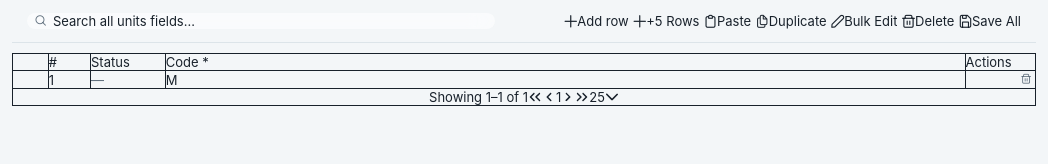
Test: ExcelGrid duplicate names with distinguishing fields › still blocks duplicate codes on grids without distinguishing fields
Click the button with test id "add-row".
click(596, 21)  # box left=564, top=13, right=629, bottom=29
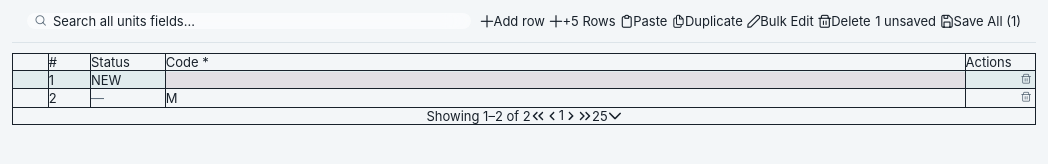
Type "M" into the field next to "NEW".
click(565, 80); type("M")  # box left=166, top=72, right=965, bottom=88
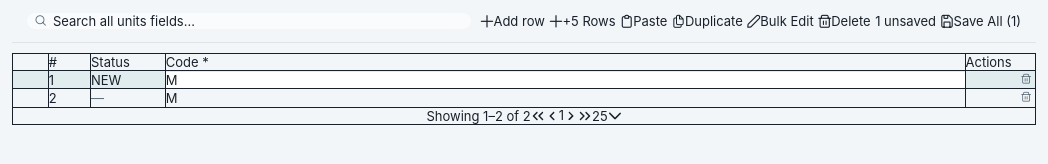
Click the button "Save All (1)".
click(981, 21)  # box left=941, top=13, right=1021, bottom=29
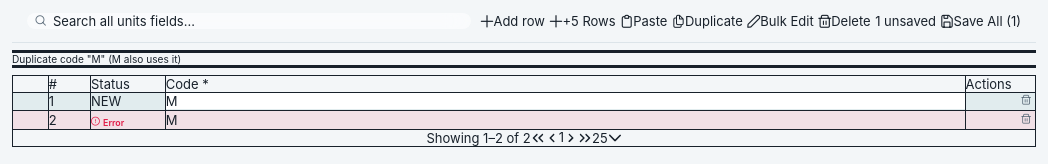
Expected: the text "Duplicate code \"M\" (M also uses it)" is shown, left=12, top=53, right=181, bottom=65
